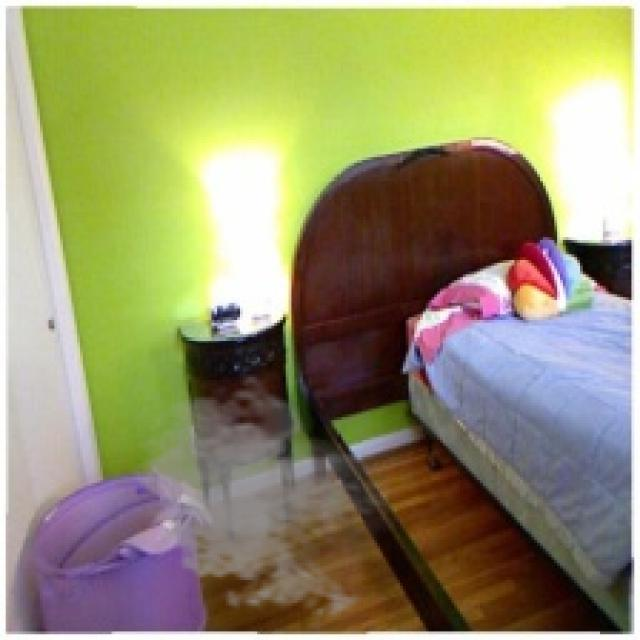Smoke: (128, 371, 398, 623)
